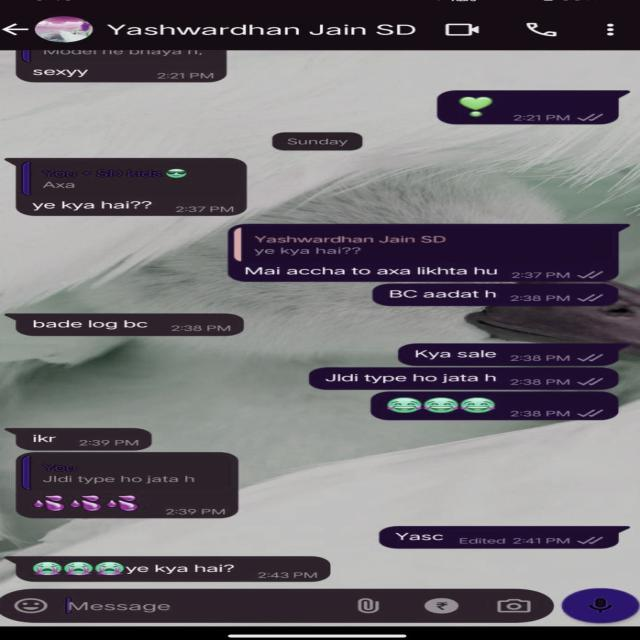scam: (13, 556, 336, 582), (8, 312, 245, 336), (18, 492, 242, 516), (12, 197, 252, 216), (16, 66, 229, 84), (18, 428, 155, 450)
